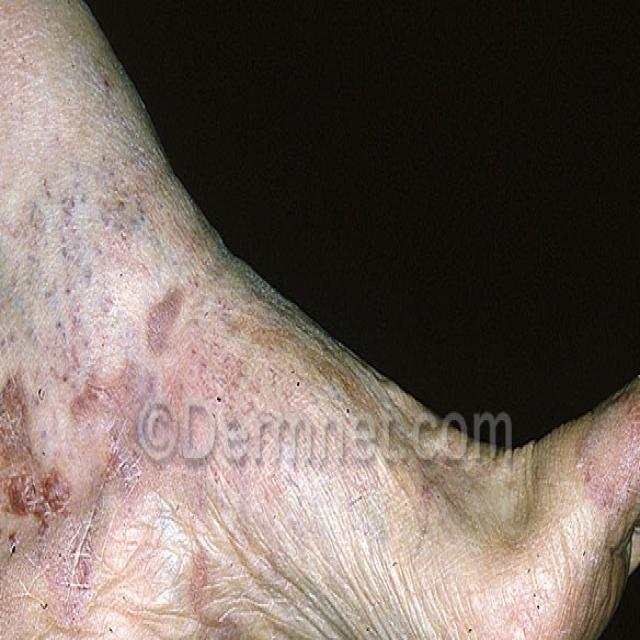Vascular Tumors: (0, 339, 67, 550), (565, 413, 640, 499), (120, 281, 192, 369), (20, 193, 81, 285), (182, 542, 238, 640)
